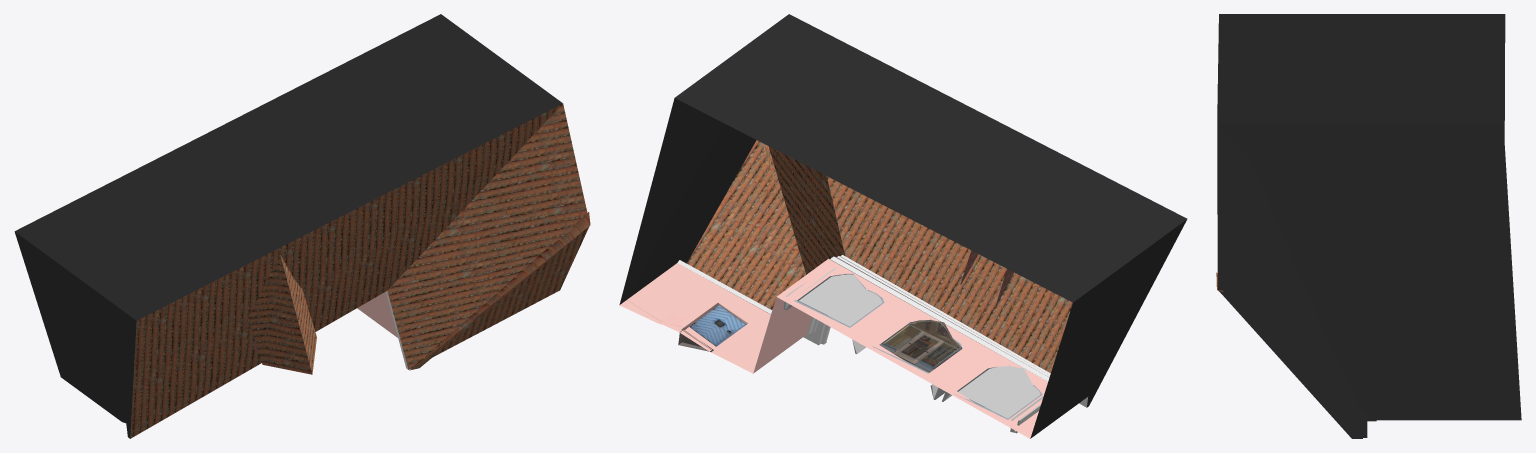
Rendered from Pikk_jalg_16-origo.obj.
The picture shows the model from 3 angles, left to right: view 1: azimuth 30°, elevation 25°; view 2: azimuth 150°, elevation 25°; view 3: azimuth 270°, elevation 25°; orthographic projection. The views are drawn at different scales.
Visible parts, largest first — view 1: Pikk_jalg_16; view 2: Pikk_jalg_16; view 3: Pikk_jalg_16.
Part boxes in pixels (x1=…): Pikk_jalg_16: x1=14, y1=14, x2=590, y2=438; Pikk_jalg_16: x1=619, y1=14, x2=1187, y2=438; Pikk_jalg_16: x1=1216, y1=14, x2=1521, y2=438.
Bounding box in the file's own units: 17.62 × 10 × 8.28.
